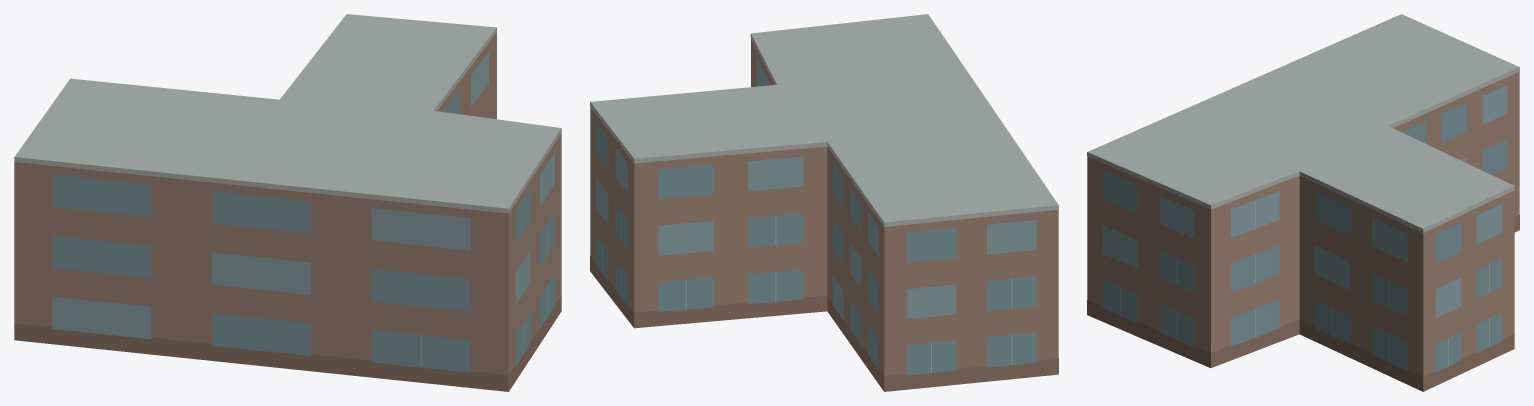
Rendered from survey-upis-32470981.glb.
3 views of the same model, side by side, from view 1: azimuth 30°, elevation 25°; view 2: azimuth 150°, elevation 25°; view 3: azimuth 270°, elevation 25° (orthographic). The views are drawn at different scales.
Parts seen in each view (by area): view 1: survey-upis-32470981.tmp; view 2: survey-upis-32470981.tmp; view 3: survey-upis-32470981.tmp.
Boxes of the visible parts, left/top/right/bottom form: survey-upis-32470981.tmp: left=14, top=14, right=561, bottom=391; survey-upis-32470981.tmp: left=590, top=14, right=1058, bottom=391; survey-upis-32470981.tmp: left=1087, top=14, right=1519, bottom=391.
Bounding box in the file's own units: 25.87 × 9.15 × 22.01.
